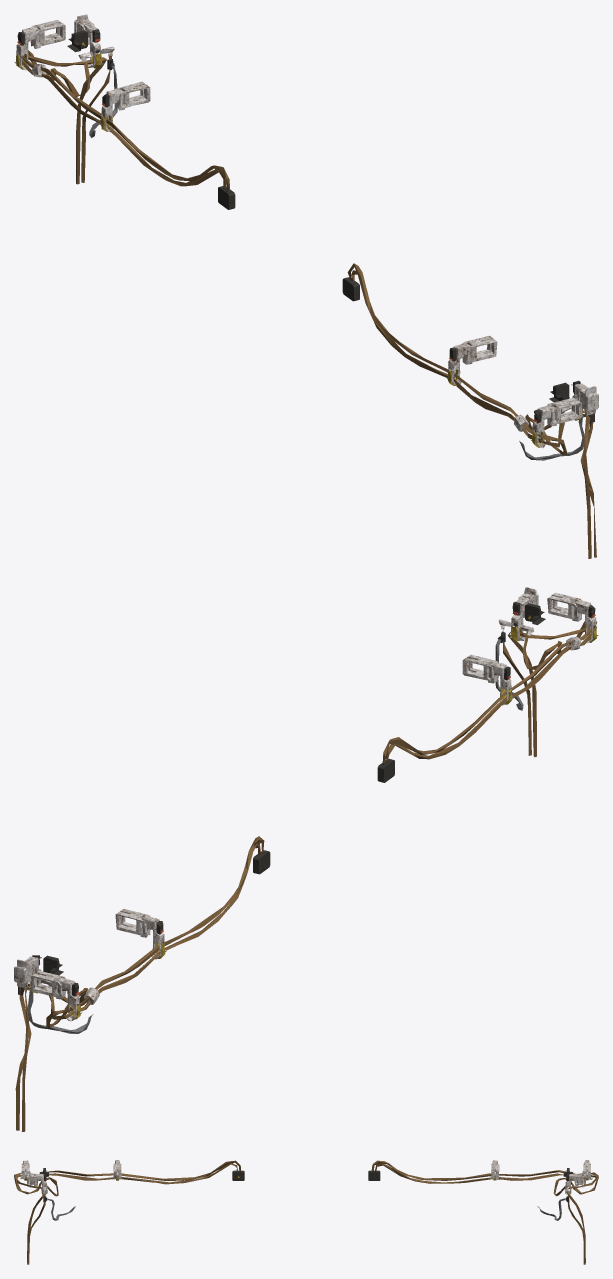
The model's file is item_copper_cable.glb.
3 renders of one model, top to bottom at view 1: azimuth 30°, elevation 25°; view 2: azimuth 150°, elevation 25°; view 3: azimuth 270°, elevation 25°, orthographic. The views are drawn at different scales.
Visible parts, largest first — view 1: item_copper_cable; view 2: item_copper_cable; view 3: item_copper_cable.
Boxes of the visible parts, x1,y1,x2,y2 form: item_copper_cable: (14, 14, 598, 558); item_copper_cable: (14, 587, 598, 1131); item_copper_cable: (14, 1160, 598, 1264).
Size of the model in its own units: 0.7877 by 1.61 by 9.29.
7 materials, 6 textured.
